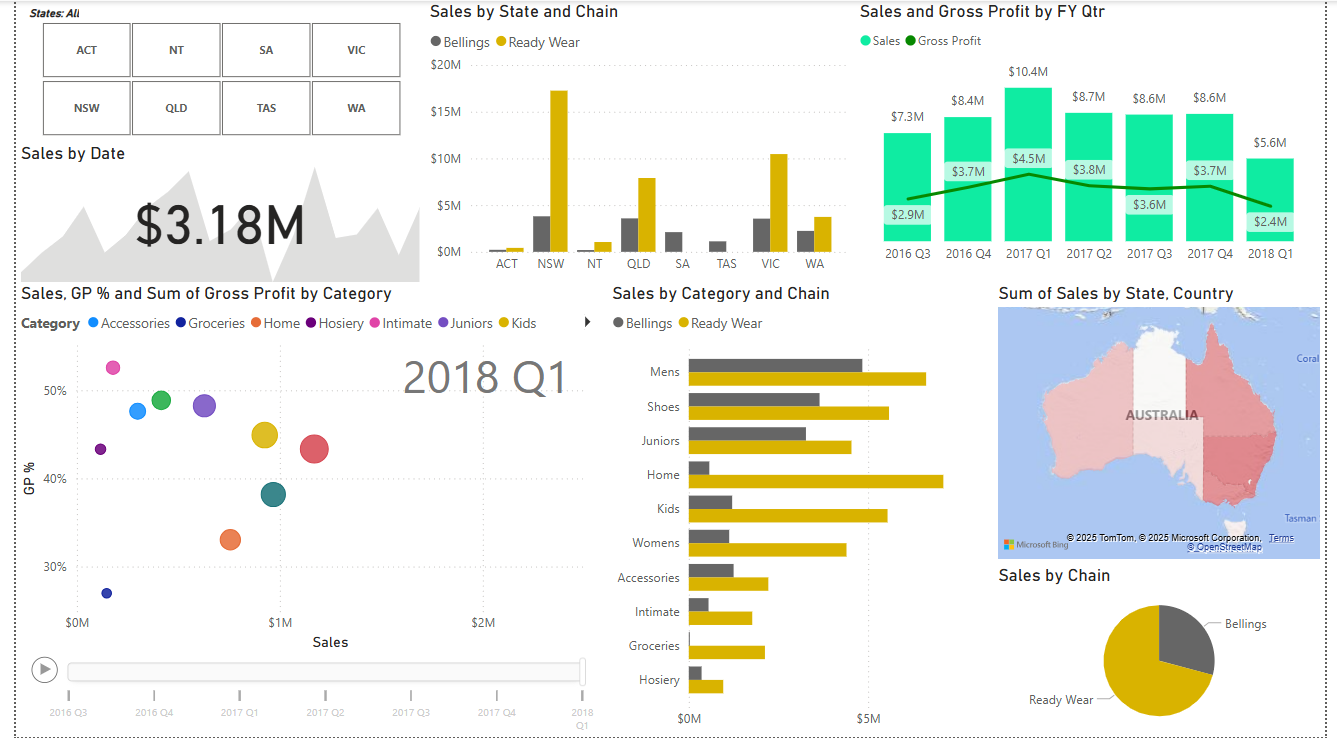

The page's visual inventory and layout, read from the dashboard file:
{"tool":"powerbi","page":{"name":"Summary","canvas":[1280,720],"ordinal":0},"visuals":[{"type":"kpi","title":"Sales by Date","fields":{"Indicator":["Sum(Sales.Sales)"],"TrendLine":["Dates.Date"]},"box":[0,138.2,399.9,137],"z":0},{"type":"clusteredColumnChart","title":"Sales by State and Chain","fields":{"Y":["Sum(Sales.Sales)"],"Category":["Regions.State"],"Series":["Sales.Chain"]},"box":[399.9,0,420.7,275.1],"z":1000},{"type":"lineClusteredColumnComboChart","title":"Sales and Gross Profit by FY Qtr","fields":{"Category":["Dates.FY Qtr"],"Y":["Sum(Sales.Sales)"],"Y2":["Sum(Sales.Gross Profit)"]},"box":[820.5,0,459.8,265.4],"z":2000},{"type":"pieChart","title":"Sales by Chain","fields":{"Category":["Sales.Chain"],"Y":["Sum(Sales.Sales)"]},"box":[956.3,551.5,324.1,168.8],"z":3000},{"type":"clusteredBarChart","title":"Sales by Category and Chain","fields":{"Category":["Sales.Category"],"Y":["Sum(Sales.Sales)"],"Series":["Sales.Chain"]},"box":[578.4,275.1,377.9,445.1],"z":4000},{"type":"scatterChart","title":"Sales, GP % and Gross Profit by Category","fields":{"X":["Sum(Sales.Sales)"],"Series":["Sales.Category"],"Y":["Sales.GP %"],"Size":["Sum(Sales.Gross Profit)"],"Play":["Dates.FY Qtr"]},"box":[0,275.1,578.4,445.1],"z":5000},{"type":"slicer","fields":{"Values":["Regions.State"]},"box":[0,0,399.9,138.2],"z":6000},{"type":"filledMap","title":"Sales by State, Country","fields":{"Category":["Regions.State, Country"]},"box":[956.3,275.1,324.1,276.4],"z":7000}]}

Visuals, with their boxes in screenshot pixels (x1, y1, x2, y2), scaled from the page's 1280x720 canvas onto the 1337x738 screenshot:
"Sales by Date" kpi: [0, 142, 418, 282]
"Sales by State and Chain" clusteredColumnChart: [418, 0, 857, 282]
"Sales and Gross Profit by FY Qtr" lineClusteredColumnComboChart: [857, 0, 1336, 272]
"Sales by Chain" pieChart: [999, 565, 1336, 737]
"Sales by Category and Chain" clusteredBarChart: [604, 282, 999, 737]
"Sales, GP % and Gross Profit by Category" scatterChart: [0, 282, 604, 737]
slicer - Regions.State: [0, 0, 418, 142]
"Sales by State, Country" filledMap: [999, 282, 1336, 565]
